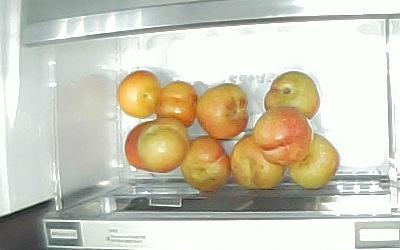prune: (252, 106, 313, 165), (231, 134, 286, 189), (288, 134, 341, 189), (137, 118, 189, 174), (197, 83, 248, 140), (183, 136, 231, 192), (264, 72, 320, 119), (118, 71, 160, 119), (155, 82, 196, 127), (125, 119, 153, 171)
